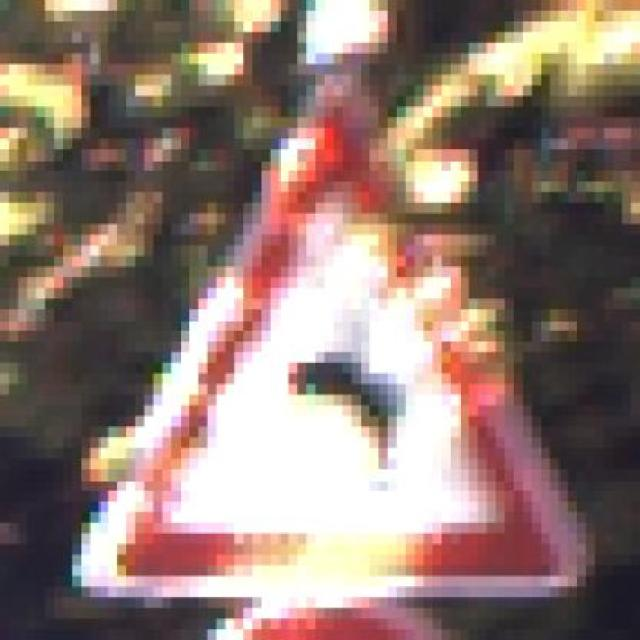Dangerous Left Curve Ahead: (72, 75, 596, 587)
